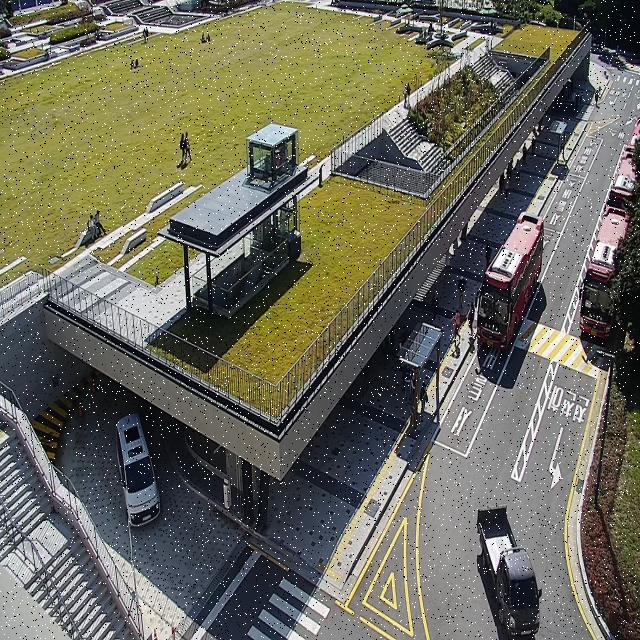queue: (413, 327, 441, 442)
